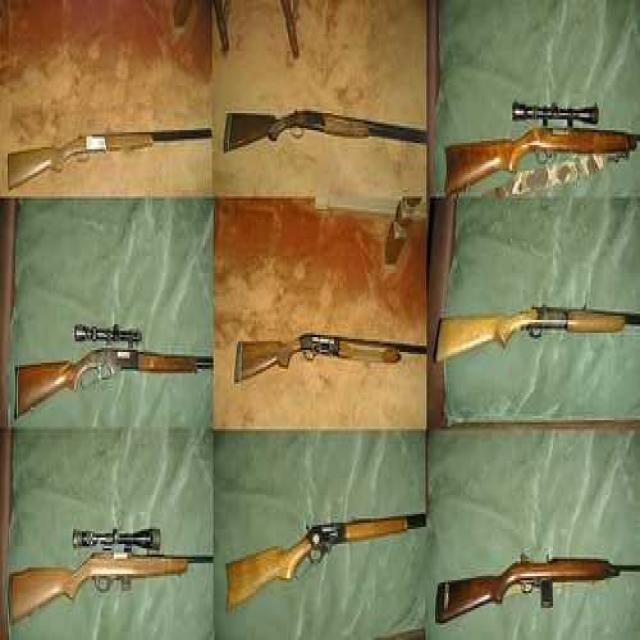weapon: (215, 469, 430, 621), (430, 245, 640, 392), (448, 74, 640, 200), (0, 310, 218, 420), (428, 523, 636, 638), (4, 518, 205, 612), (9, 102, 206, 194), (228, 96, 424, 175), (228, 328, 424, 404)
